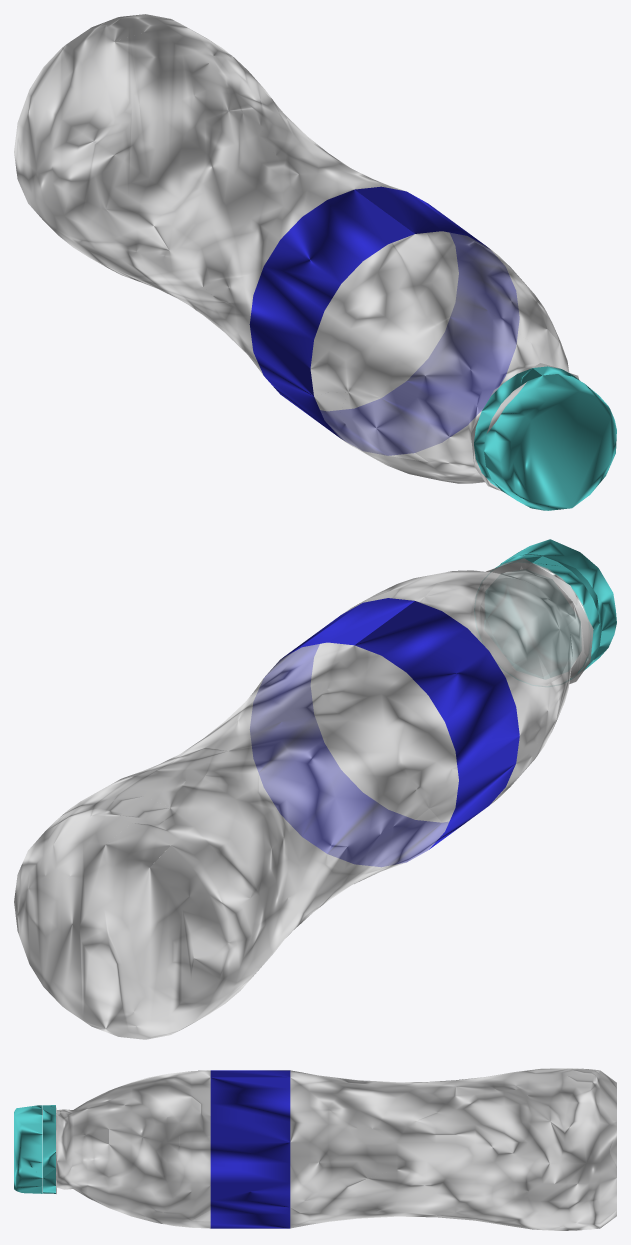
Rendered from model_align.obj.
3 renders of one model, top to bottom at view 1: azimuth 30°, elevation 25°; view 2: azimuth 150°, elevation 25°; view 3: azimuth 270°, elevation 25°, orthographic. The views are drawn at different scales.
Bounding box in the file's own units: 0.0374 × 0.0374 × 0.1378.
